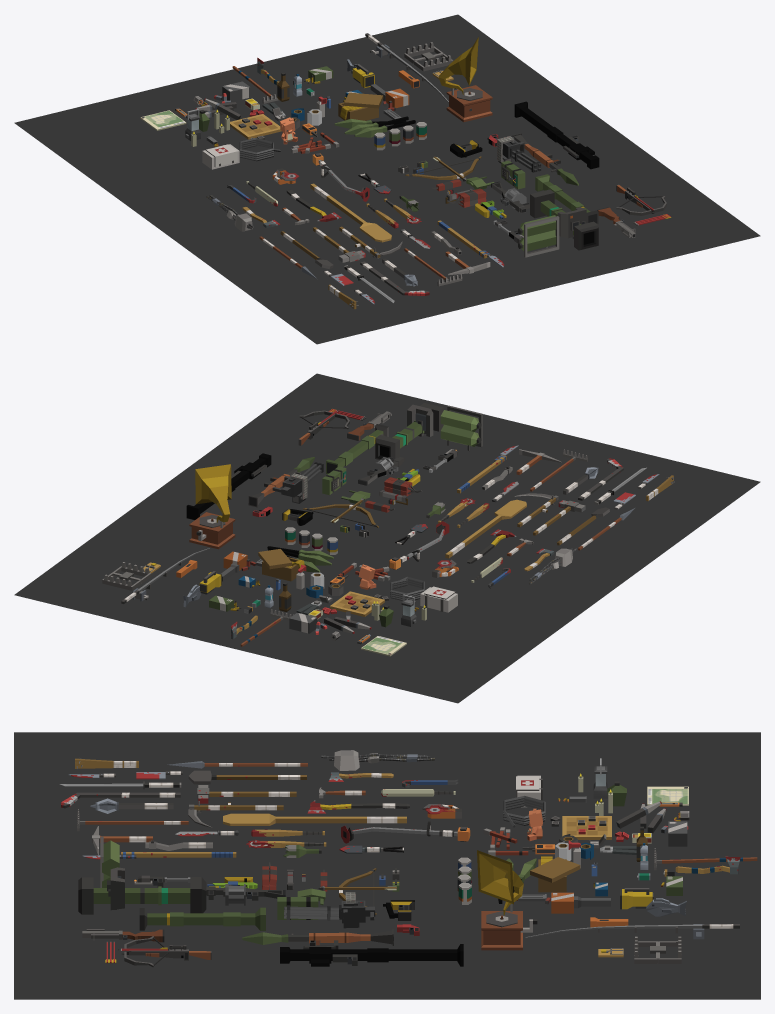
The model's file is Simple_Apocalypse_-_Props.glb.
The picture shows the model from 3 angles, top to bottom: view 1: azimuth 30°, elevation 25°; view 2: azimuth 150°, elevation 25°; view 3: azimuth 270°, elevation 25°; orthographic projection. The views are drawn at different scales.
Visible parts, largest first — view 1: polySurface2915_lambert3_0, polySurface2852_lambert2_0, polySurface2866_lambert2_0, polySurface2800_lambert2_0, polySurface2802_lambert2_0, polySurface2897_lambert2_0, polySurface2825_lambert2_0, polySurface2793_lambert2_0, polySurface2764_lambert2_0, polySurface2811_lambert2_0, polySurface2851_lambert2_0, polySurface2791_lambert2_0; view 2: polySurface2915_lambert3_0, polySurface2802_lambert2_0, polySurface2852_lambert2_0, polySurface2800_lambert2_0, polySurface2866_lambert2_0, polySurface2825_lambert2_0, polySurface2897_lambert2_0, polySurface2793_lambert2_0, polySurface2764_lambert2_0, polySurface2851_lambert2_0, polySurface2843_lambert2_0, polySurface2844_lambert2_0 (+2 smaller); view 3: polySurface2915_lambert3_0, polySurface2866_lambert2_0, polySurface2852_lambert2_0, polySurface2825_lambert2_0, polySurface2802_lambert2_0, polySurface2897_lambert2_0, polySurface2800_lambert2_0, polySurface2863_lambert2_0, polySurface2764_lambert2_0, polySurface2920_lambert2_0, polySurface2913_lambert2_0, polySurface2811_lambert2_0 (+32 smaller).
Boxes of the visible parts, x1=… form: polySurface2915_lambert3_0: x1=14, y1=14, x2=760, y2=344; polySurface2852_lambert2_0: x1=530, y1=189, x2=598, y2=250; polySurface2866_lambert2_0: x1=514, y1=101, x2=599, y2=169; polySurface2800_lambert2_0: x1=446, y1=85, x2=492, y2=122; polySurface2802_lambert2_0: x1=438, y1=37, x2=478, y2=94; polySurface2897_lambert2_0: x1=310, y1=183, x2=391, y2=242; polySurface2825_lambert2_0: x1=535, y1=174, x2=598, y2=224; polySurface2793_lambert2_0: x1=202, y1=144, x2=239, y2=169; polySurface2764_lambert2_0: x1=230, y1=114, x2=281, y2=139; polySurface2811_lambert2_0: x1=239, y1=138, x2=280, y2=161; polySurface2851_lambert2_0: x1=557, y1=207, x2=586, y2=238; polySurface2791_lambert2_0: x1=140, y1=110, x2=186, y2=130; polySurface2915_lambert3_0: x1=14, y1=373, x2=760, y2=703; polySurface2802_lambert2_0: x1=195, y1=464, x2=231, y2=522; polySurface2852_lambert2_0: x1=375, y1=403, x2=443, y2=459; polySurface2800_lambert2_0: x1=189, y1=512, x2=235, y2=549; polySurface2866_lambert2_0: x1=186, y1=453, x2=271, y2=519; polySurface2825_lambert2_0: x1=326, y1=424, x2=388, y2=474; polySurface2897_lambert2_0: x1=445, y1=499, x2=526, y2=558; polySurface2793_lambert2_0: x1=420, y1=586, x2=457, y2=612; polySurface2764_lambert2_0: x1=330, y1=591, x2=384, y2=616; polySurface2851_lambert2_0: x1=407, y1=404, x2=433, y2=436; polySurface2843_lambert2_0: x1=440, y1=410, x2=481, y2=431; polySurface2844_lambert2_0: x1=440, y1=425, x2=481, y2=446; polySurface2915_lambert3_0: x1=14, y1=732, x2=760, y2=999; polySurface2866_lambert2_0: x1=280, y1=944, x2=463, y2=966; polySurface2852_lambert2_0: x1=78, y1=877, x2=206, y2=914; polySurface2825_lambert2_0: x1=139, y1=907, x2=265, y2=930; polySurface2802_lambert2_0: x1=477, y1=850, x2=523, y2=915; polySurface2897_lambert2_0: x1=223, y1=813, x2=406, y2=825; polySurface2800_lambert2_0: x1=481, y1=911, x2=537, y2=950; polySurface2863_lambert2_0: x1=288, y1=928, x2=393, y2=945; polySurface2764_lambert2_0: x1=562, y1=816, x2=611, y2=839; polySurface2920_lambert2_0: x1=121, y1=936, x2=211, y2=967; polySurface2913_lambert2_0: x1=343, y1=821, x2=470, y2=841; polySurface2811_lambert2_0: x1=503, y1=796, x2=545, y2=827.
Size of the model in its own units: 15.2 by 2.37 by 17.95.
2 materials, 1 textured.
